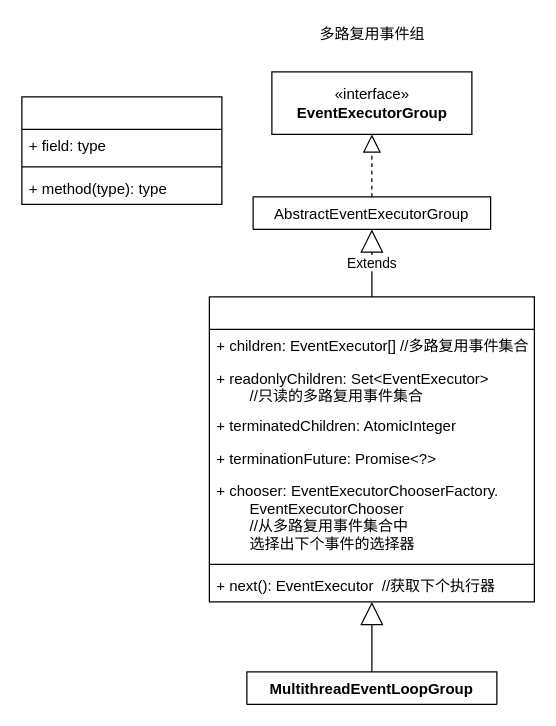
Image size: 556x726. Some labels were removed from this diagram. Here are the shapes that lost their labels. From the top down, the box of each, then its label:
(21, 96, 222, 204): Classname
(208, 296, 534, 602): MultithreadEventExecutorGroup
